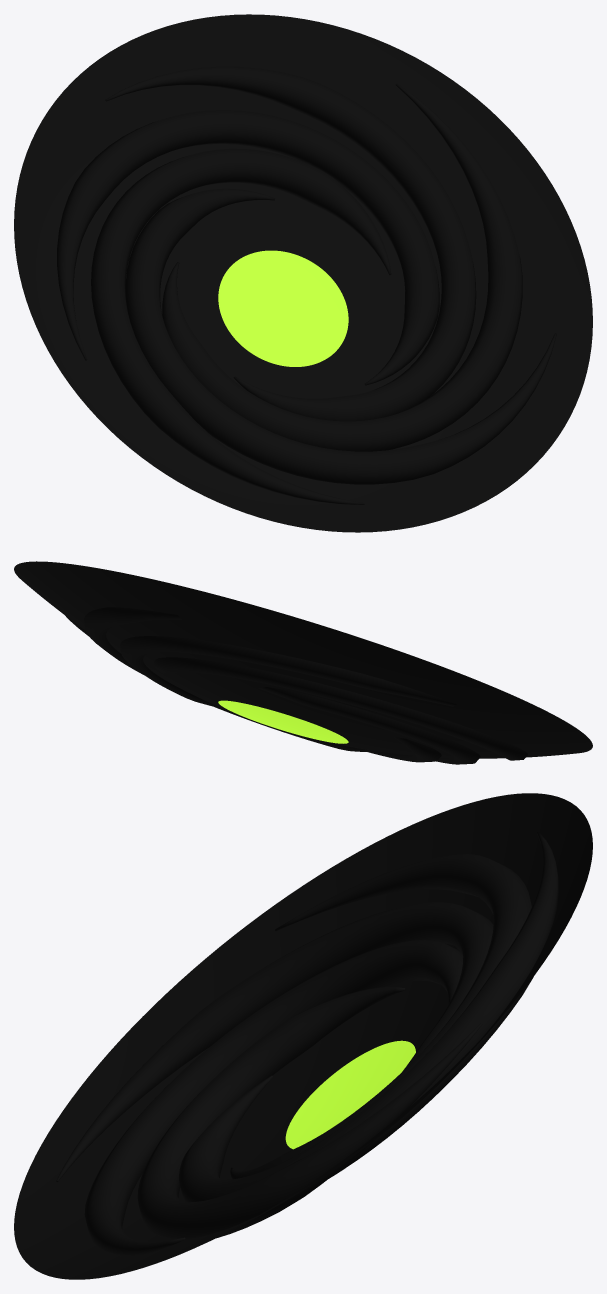
3 renders of one model, top to bottom at view 1: azimuth 30°, elevation 25°; view 2: azimuth 150°, elevation 25°; view 3: azimuth 270°, elevation 25°, orthographic. The views are drawn at different scales.
Parts seen in each view (by area): view 1: uzu_funnel, uzu_arms; view 2: uzu_funnel, uzu_arms; view 3: uzu_arms, uzu_funnel.
Part boxes in pixels (left/top/right/bottom): uzu_funnel: left=14, top=14, right=592, bottom=532; uzu_arms: left=57, top=66, right=556, bottom=504; uzu_funnel: left=14, top=561, right=592, bottom=758; uzu_arms: left=64, top=607, right=527, bottom=764; uzu_arms: left=56, top=832, right=558, bottom=1256; uzu_funnel: left=14, top=793, right=592, bottom=1279.
Bounding box in the file's own units: 1.84 × 1.08 × 1.49.
